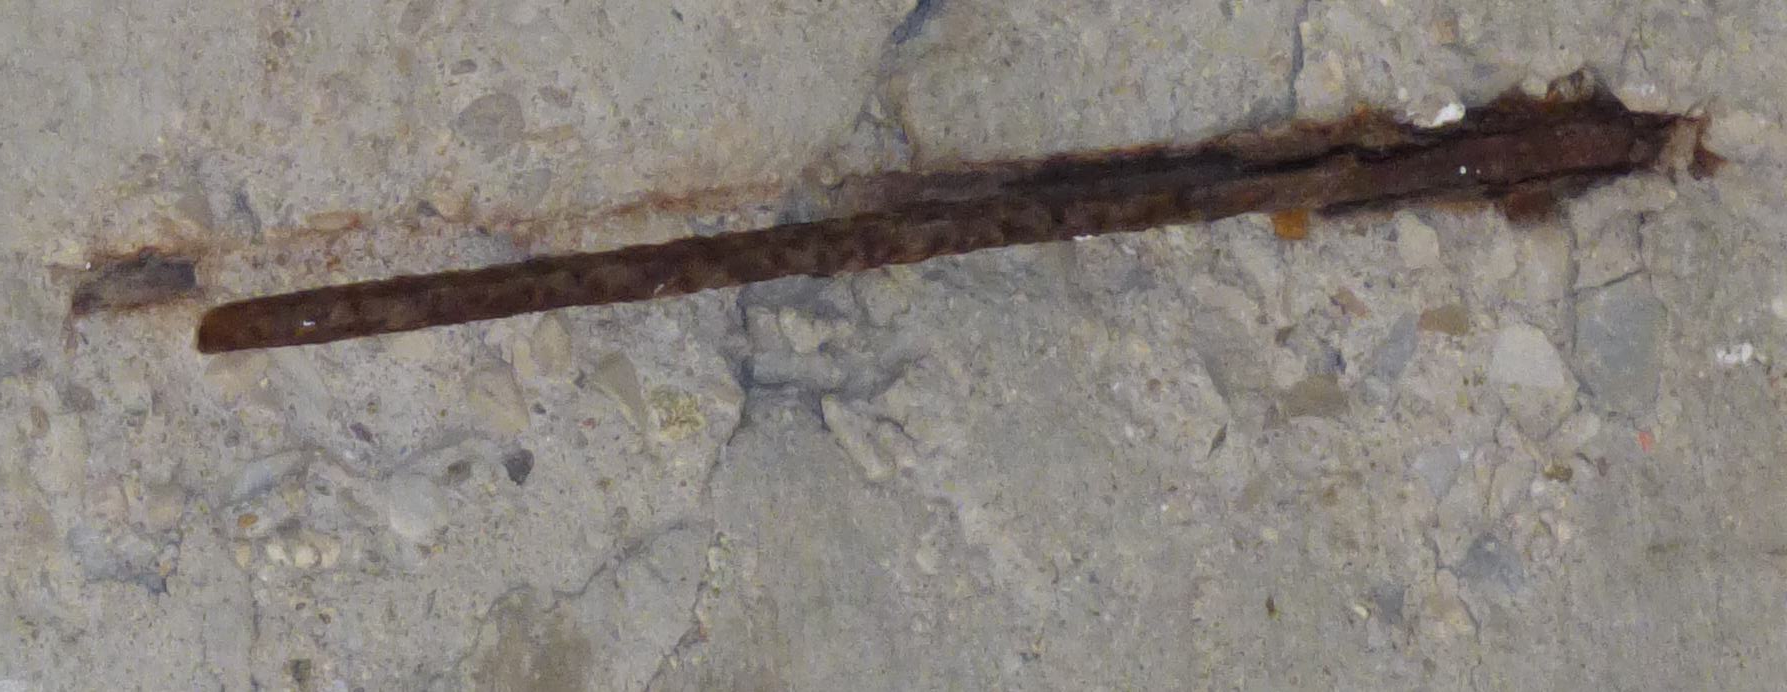Exposed reinforcement: (195, 106, 1667, 355)
